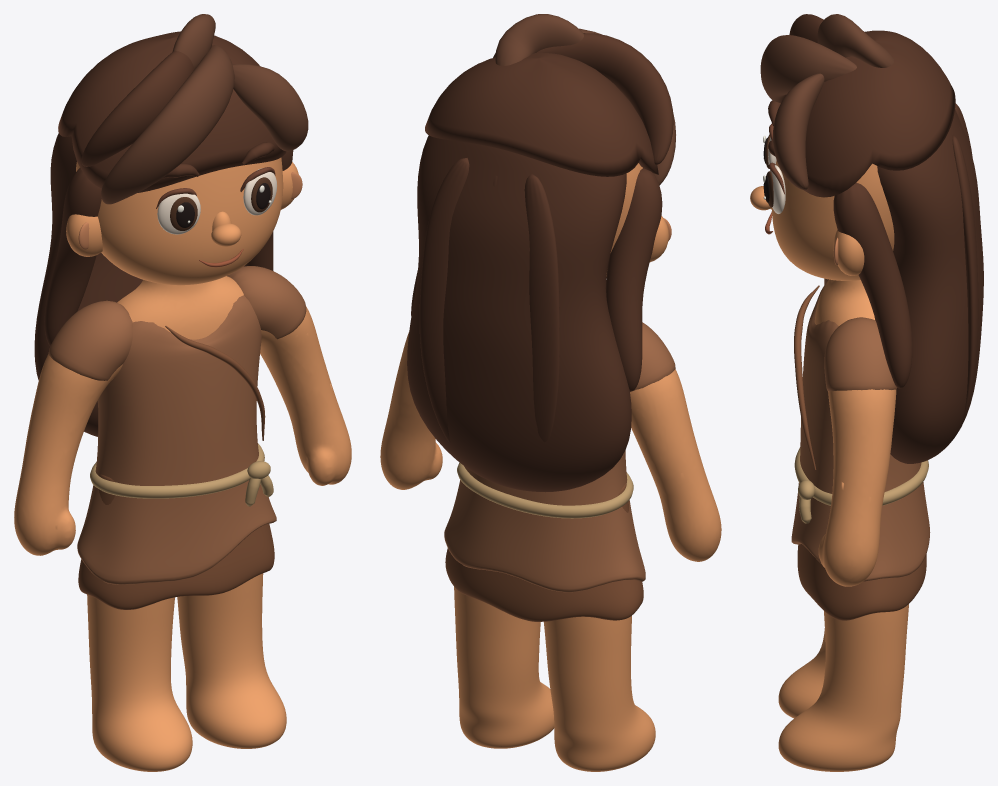
Rendered from female-resident-v02.glb.
The picture shows the model from 3 angles, left to right: view 1: azimuth 30°, elevation 25°; view 2: azimuth 150°, elevation 25°; view 3: azimuth 270°, elevation 25°; orthographic projection.
Parts seen in each view (by area): view 1: Cross-over hide tunic, Continuous body and arms, L · bare foot and leg, R · bare foot and leg, Cheeks and rounded chin, Shaped crown under the locks, Fringe primary, Layered hide skirt, Loose long hair curtain, Hide sleeve, Fringe layering, Side drop of loose hair (+8 smaller); view 2: Loose long hair curtain, Shaped crown under the locks, Cross-over hide tunic, Continuous body and arms, L · bare foot and leg, R · bare foot and leg, Side drop of loose hair, Back strand broad relief, Layered hide skirt, Back strand broad relief.002, Fringe layering, Crown swirl (+3 smaller); view 3: Loose long hair curtain, Shaped crown under the locks, R · bare foot and leg, Continuous body and arms, Cross-over hide tunic, Side drop of loose hair.001, Cheeks and rounded chin, Layered hide skirt, Hide sleeve.001, Fringe primary, Right curled fringe, Back strand broad relief.002 (+7 smaller).
Part boxes in pixels (box(x1,y1,x2,y2)): Cross-over hide tunic: box(77, 295, 276, 584); Continuous body and arms: box(14, 276, 351, 555); L · bare foot and leg: box(87, 594, 192, 771); R · bare foot and leg: box(177, 573, 286, 748); Cheeks and rounded chin: box(76, 157, 283, 285); Shaped crown under the locks: box(58, 31, 286, 192); Fringe primary: box(101, 45, 234, 204); Layered hide skirt: box(78, 474, 274, 609); Loose long hair curtain: box(34, 133, 244, 436); Hide sleeve: box(48, 300, 132, 380); Fringe layering: box(81, 51, 194, 166); Side drop of loose hair: box(44, 168, 101, 346); Loose long hair curtain: box(407, 135, 631, 492); Shaped crown under the locks: box(425, 52, 658, 176); Cross-over hide tunic: box(444, 450, 645, 592); Continuous body and arms: box(380, 332, 721, 561); L · bare foot and leg: box(543, 616, 655, 771); R · bare foot and leg: box(454, 587, 554, 748); Side drop of loose hair: box(605, 168, 662, 391); Back strand broad relief: box(524, 173, 559, 441); Layered hide skirt: box(445, 483, 643, 621); Back strand broad relief.002: box(419, 158, 469, 442); Fringe layering: box(536, 33, 673, 165); Crown swirl: box(495, 14, 583, 65); Loose long hair curtain: box(874, 109, 983, 463); Shaped crown under the locks: box(804, 30, 955, 197); R · bare foot and leg: box(778, 604, 908, 771); Continuous body and arms: box(814, 279, 896, 586); Cross-over hide tunic: box(791, 280, 930, 581); Side drop of loose hair.001: box(833, 182, 912, 388); Cheeks and rounded chin: box(772, 161, 894, 280); Layered hide skirt: box(797, 544, 926, 620); Hide sleeve.001: box(824, 317, 896, 391); Fringe primary: box(760, 35, 856, 103); Right curled fringe: box(773, 73, 824, 189); Back strand broad relief.002: box(952, 135, 978, 424).
Size of the model in its own units: 1.59 by 3.31 by 0.969.
